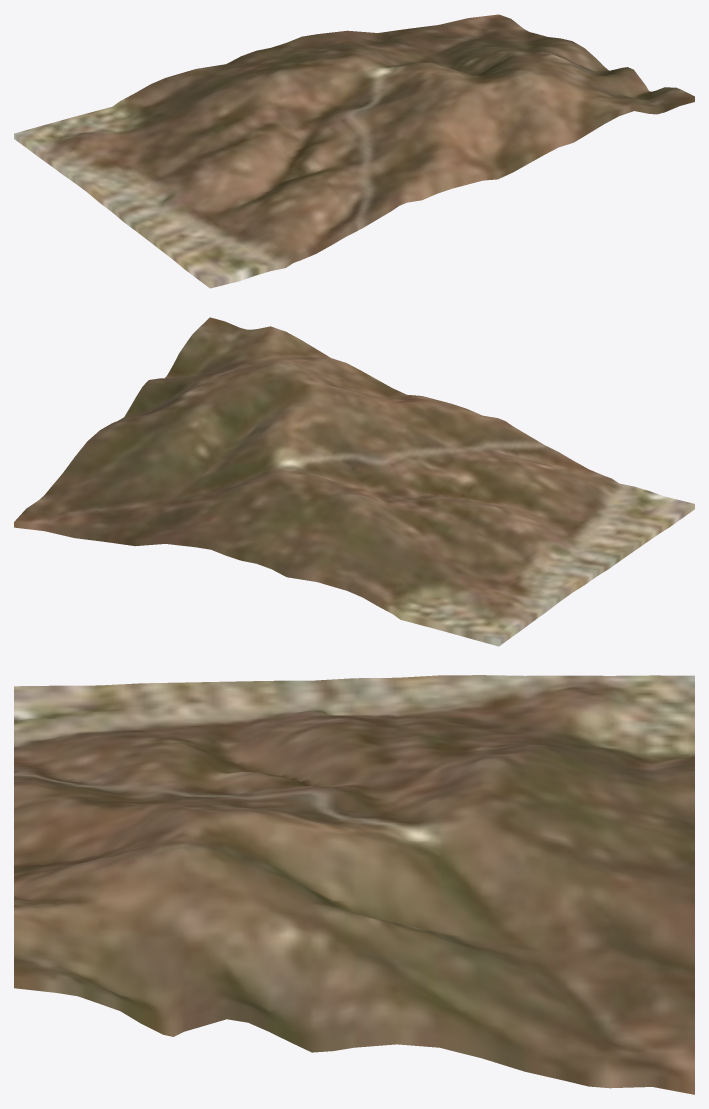
File: terrain_r1_c5_lod2.glb
The picture shows the model from 3 angles, top to bottom: view 1: azimuth 30°, elevation 25°; view 2: azimuth 150°, elevation 25°; view 3: azimuth 270°, elevation 25°; orthographic projection. The views are drawn at different scales.
Parts seen in each view (by area): view 1: terrain_r1_c5_lod2; view 2: terrain_r1_c5_lod2; view 3: terrain_r1_c5_lod2.
Part boxes in pixels (box(x1,y1,x2,y2)): terrain_r1_c5_lod2: box(14, 14, 694, 288); terrain_r1_c5_lod2: box(14, 317, 694, 646); terrain_r1_c5_lod2: box(14, 675, 694, 1094).
Size of the model in its own units: 1125 by 199 by 787.
1 material, 1 textured.
